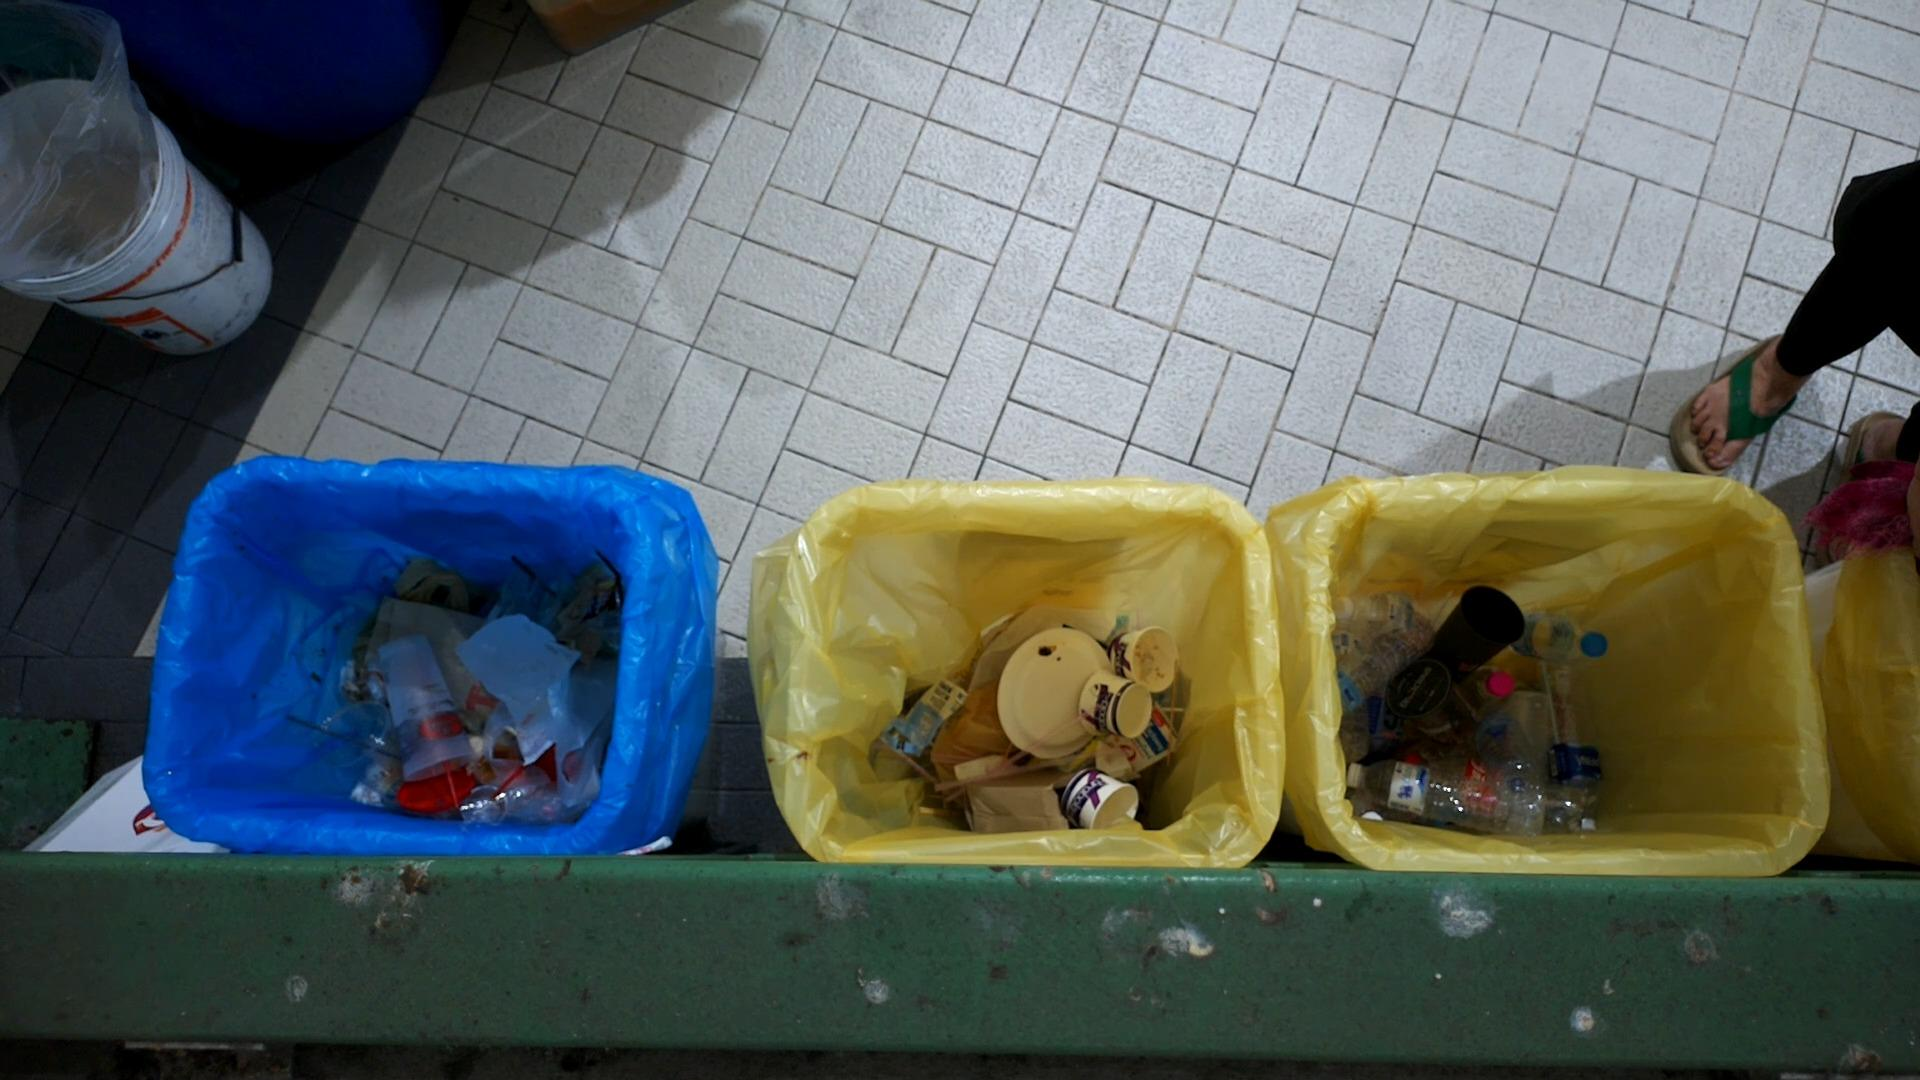food container: (993, 622, 1121, 762), (1056, 762, 1143, 835), (1083, 667, 1159, 748), (1112, 624, 1183, 698)
milk carton: (1089, 704, 1185, 785)
plastic bottle: (1345, 757, 1547, 836), (1321, 608, 1433, 721), (1538, 658, 1604, 837), (1474, 703, 1552, 807), (1515, 605, 1621, 676)
plastic cup: (371, 633, 484, 779), (1416, 584, 1535, 699), (1387, 654, 1493, 762)
snack packaging: (884, 670, 977, 765)
straw: (280, 709, 402, 761), (593, 550, 625, 607), (510, 553, 543, 587)
tissue paper: (451, 612, 597, 749), (1065, 737, 1131, 778)
